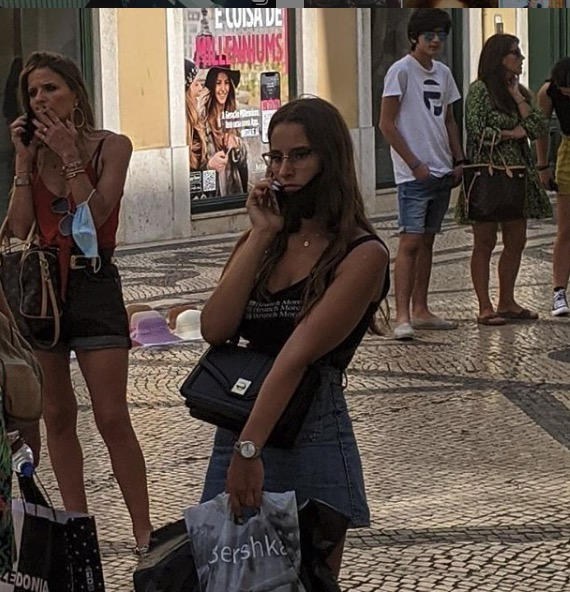mask_weared_incorrect: (266, 139, 325, 213)
without_mask: (28, 74, 69, 122), (411, 30, 451, 60), (508, 47, 525, 77), (188, 76, 203, 104), (216, 76, 230, 104)
